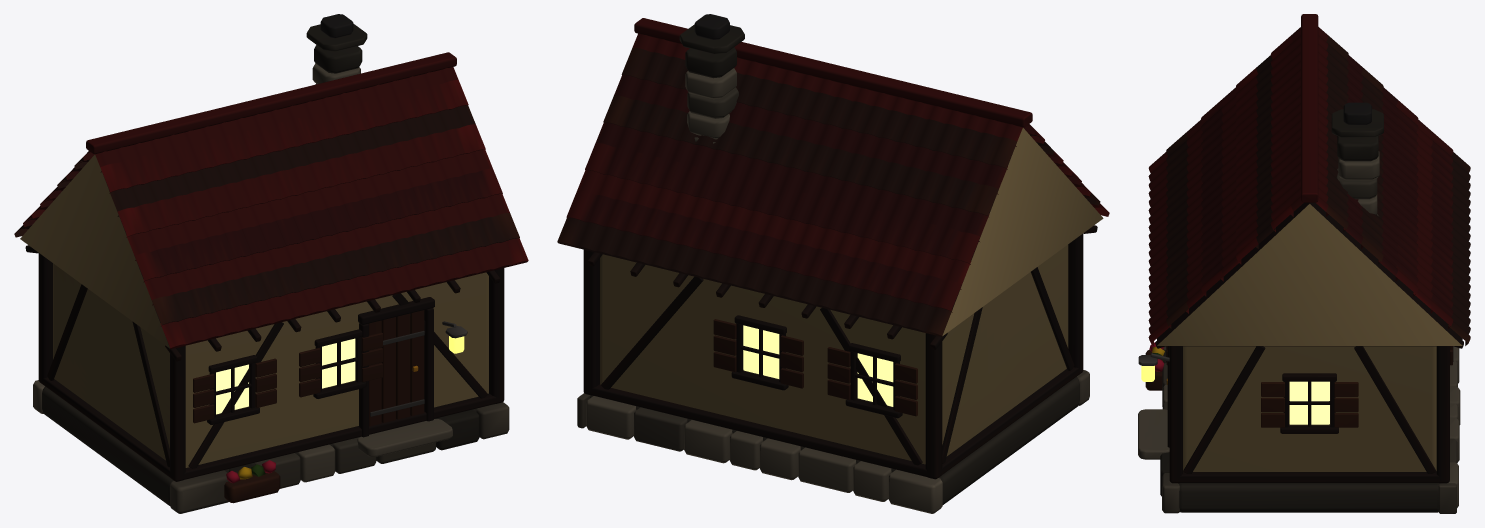
The model's file is Casa2C.fbx.
The picture shows the model from 3 angles, left to right: view 1: azimuth 30°, elevation 25°; view 2: azimuth 150°, elevation 25°; view 3: azimuth 270°, elevation 25°; orthographic projection. The views are drawn at different scales.
Parts seen in each view (by area): view 1: Casa2C; view 2: Casa2C; view 3: Casa2C.
Boxes of the visible parts, box(x1,y1,x2,y2) form: Casa2C: box(14, 14, 528, 513); Casa2C: box(557, 14, 1109, 513); Casa2C: box(1138, 14, 1470, 513).
Size of the model in its own units: 6.39 by 6.09 by 4.98.
